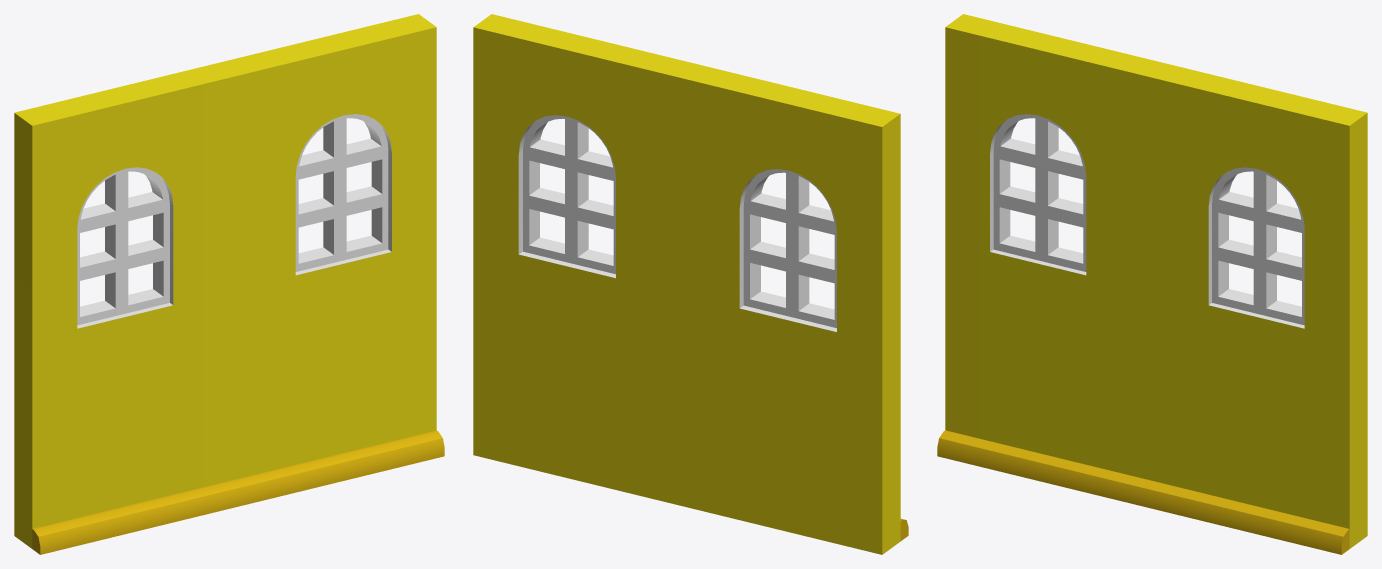
The model's file is Y_Wall002.fbx.
3 renders of one model, left to right at view 1: azimuth 30°, elevation 25°; view 2: azimuth 150°, elevation 25°; view 3: azimuth 330°, elevation 25°, orthographic.
Parts seen in each view (by area): view 1: Wall002.003; view 2: Wall002.003; view 3: Wall002.003.
Boxes of the visible parts, box(x1,y1,x2,y2) form: Wall002.003: box(14, 14, 444, 554); Wall002.003: box(473, 14, 908, 554); Wall002.003: box(937, 14, 1367, 554).
Bounding box in the file's own units: 250 × 250 × 27.87.
Materials: 1 (1 with a texture image).
